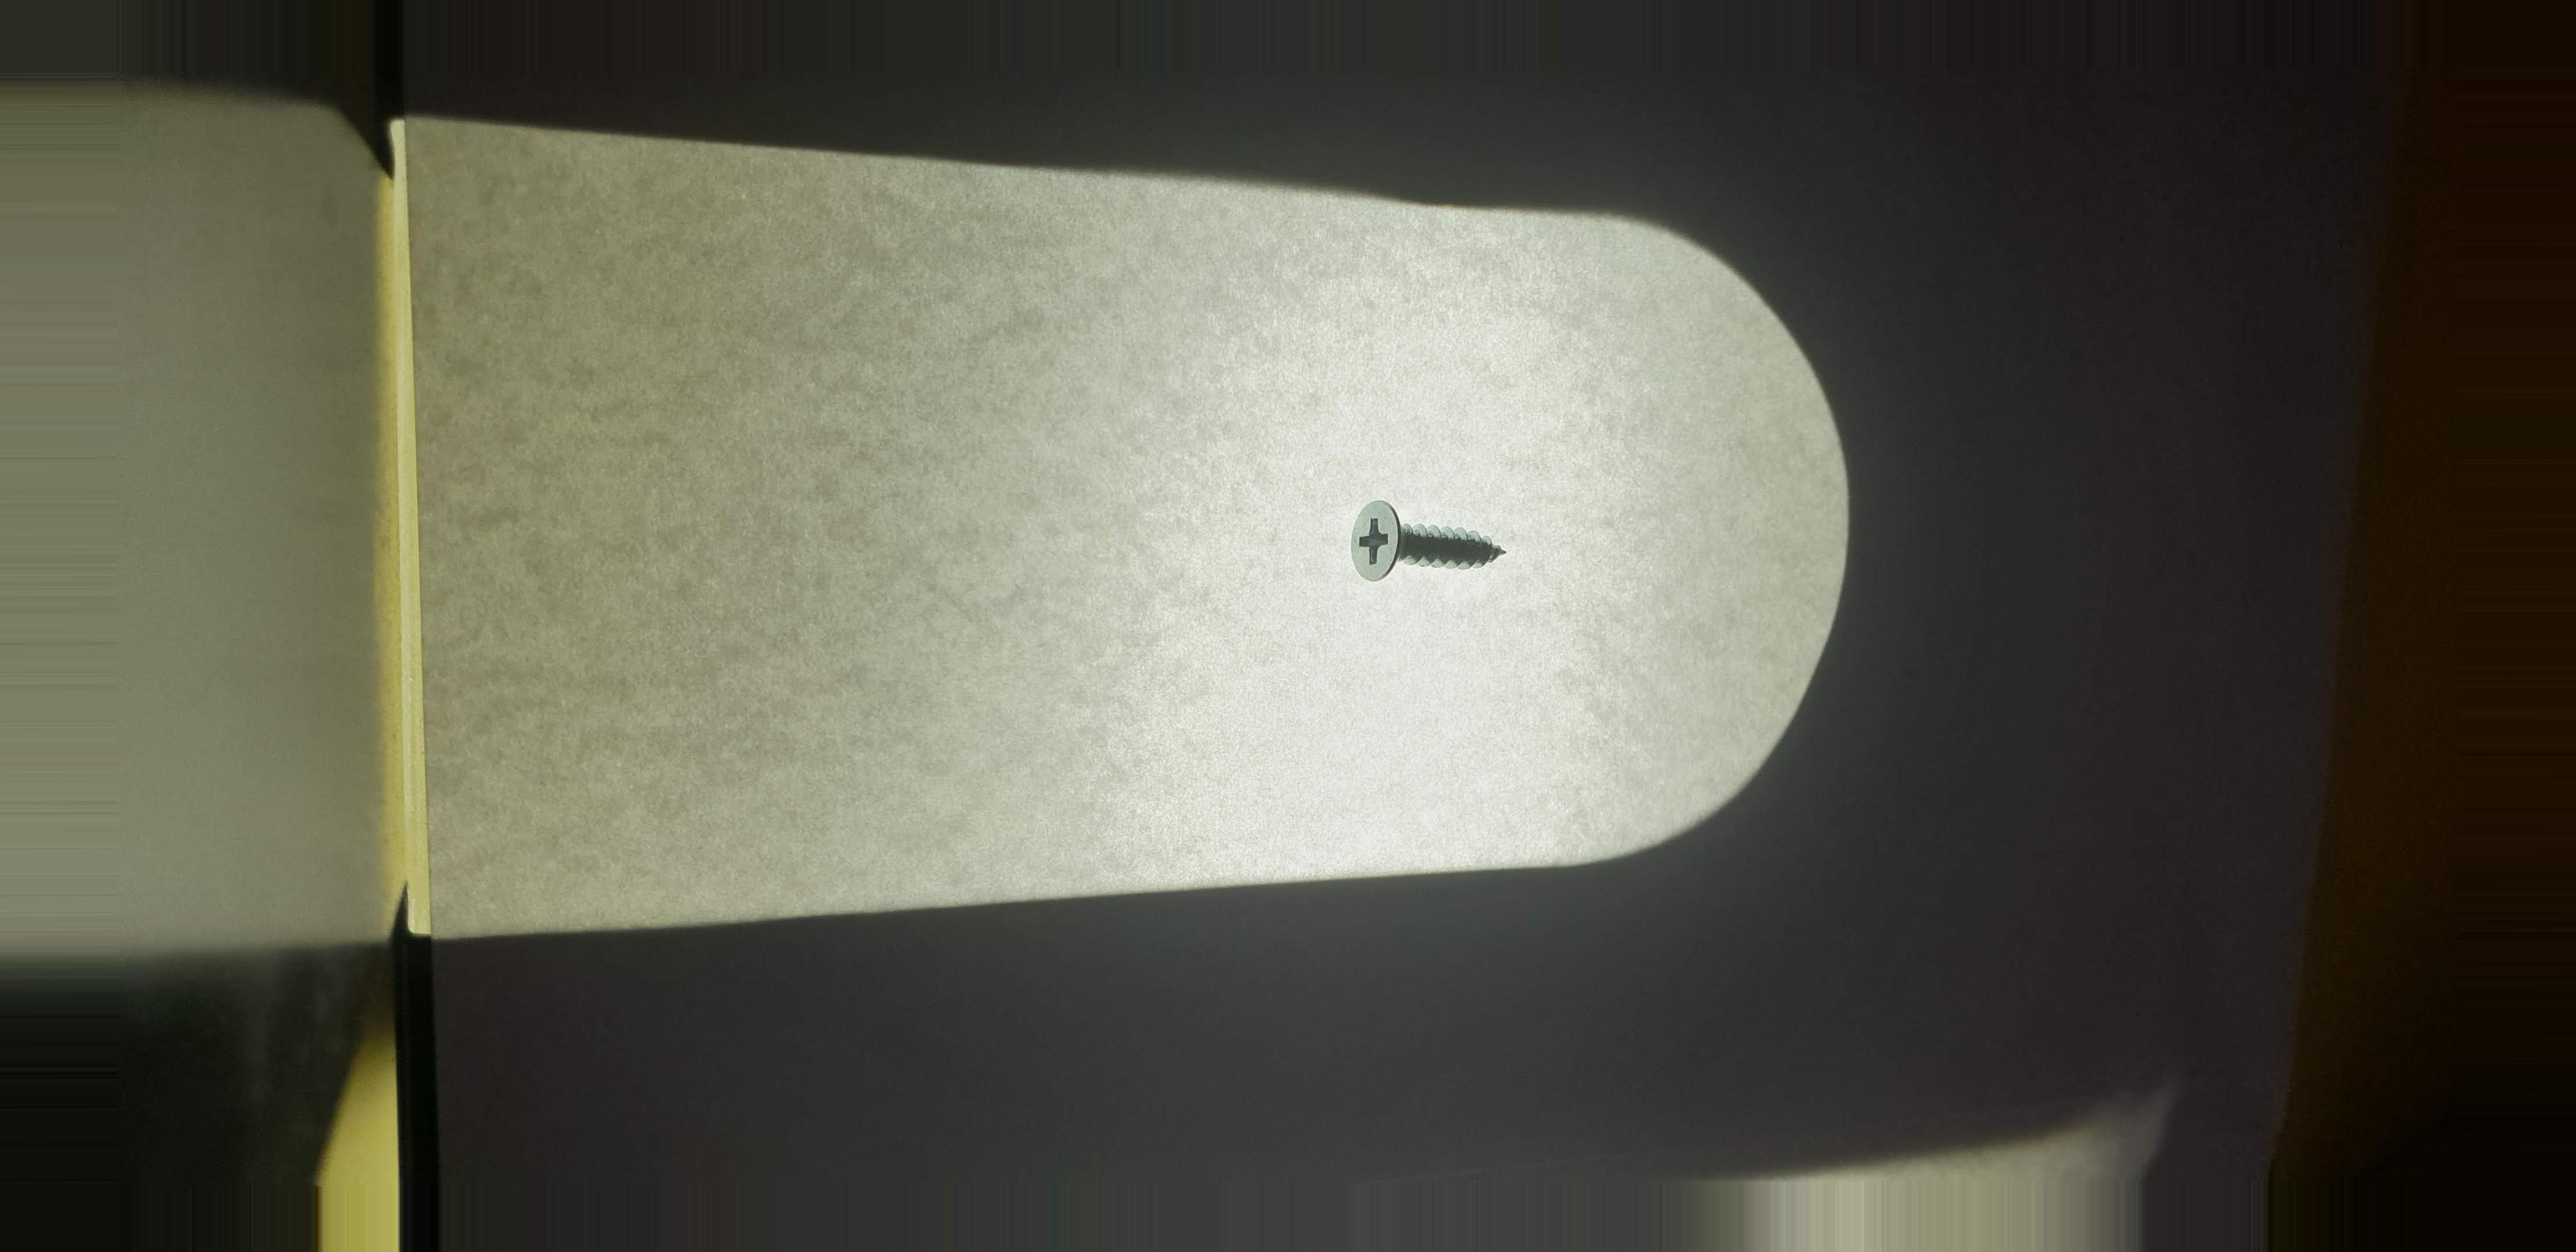S003: (1301, 478, 1561, 623)
